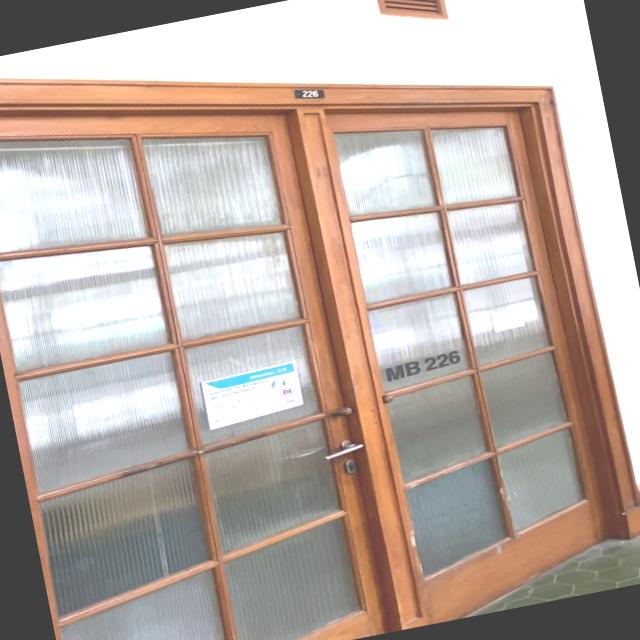room226: (291, 82, 326, 104)
room226Window: (382, 346, 468, 384)
